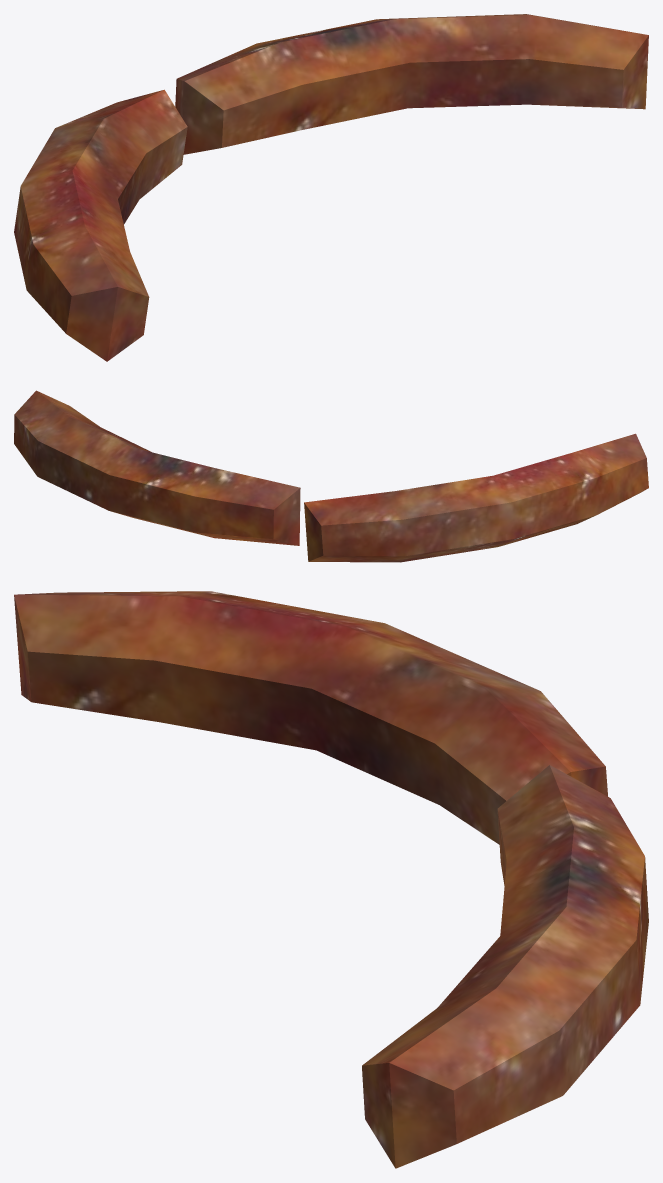
Rendered from Sausage_pair.fbx.
3 renders of one model, top to bottom at view 1: azimuth 30°, elevation 25°; view 2: azimuth 150°, elevation 25°; view 3: azimuth 270°, elevation 25°, orthographic. The views are drawn at different scales.
Parts seen in each view (by area): view 1: Sausage_pair; view 2: Sausage_pair; view 3: Sausage_pair.
Part boxes in pixels (x1,y1,x2,y2): Sausage_pair: [14, 14, 648, 361]; Sausage_pair: [14, 390, 648, 562]; Sausage_pair: [14, 591, 648, 1168].
Bounding box in the file's own units: 0.3487 × 0.0464 × 0.1927.
